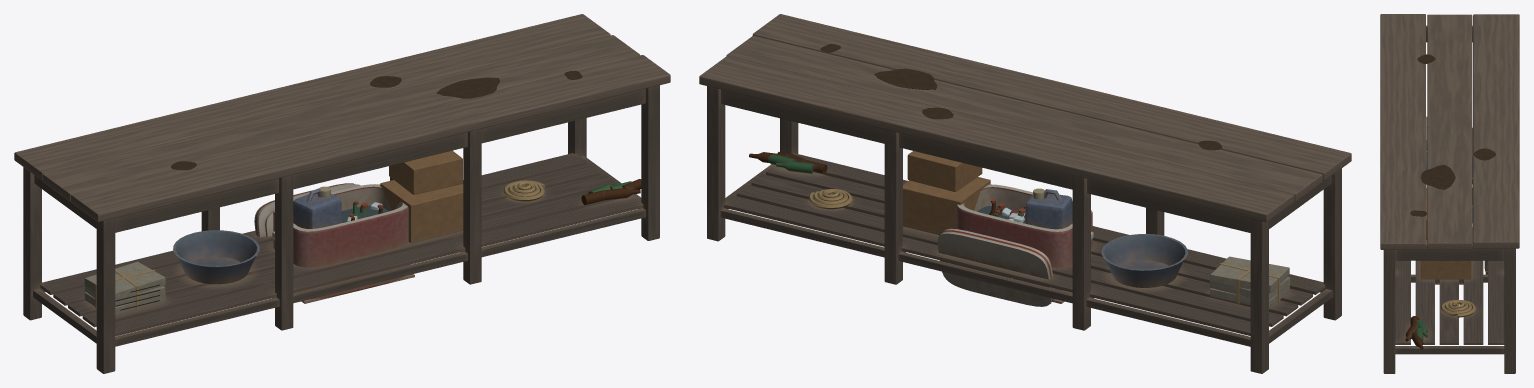
Rendered from ShackInteriorV2.fbx.
3 renders of one model, left to right at view 1: azimuth 30°, elevation 25°; view 2: azimuth 150°, elevation 25°; view 3: azimuth 270°, elevation 25°, orthographic. The views are drawn at different scales.
Parts seen in each view (by area): view 1: CounterTable, CounterTable_Clutter, IceBox, IceBox_Lid; view 2: CounterTable, CounterTable_Clutter, IceBox, IceBox_Lid; view 3: CounterTable, CounterTable_Clutter.
Part boxes in pixels (left/top/right/bottom): CounterTable: left=14, top=14, right=670, bottom=373; CounterTable_Clutter: left=84, top=150, right=641, bottom=315; IceBox: left=272, top=184, right=414, bottom=303; IceBox_Lid: left=254, top=183, right=360, bottom=237; CounterTable: left=699, top=14, right=1351, bottom=373; CounterTable_Clutter: left=749, top=151, right=1290, bottom=308; IceBox: left=956, top=184, right=1093, bottom=303; IceBox_Lid: left=937, top=228, right=1054, bottom=306; CounterTable: left=1380, top=14, right=1519, bottom=373; CounterTable_Clutter: left=1405, top=116, right=1475, bottom=349.
Bounding box in the file's own units: 396 × 108 × 101.
Materials: 7 (7 with a texture image).
